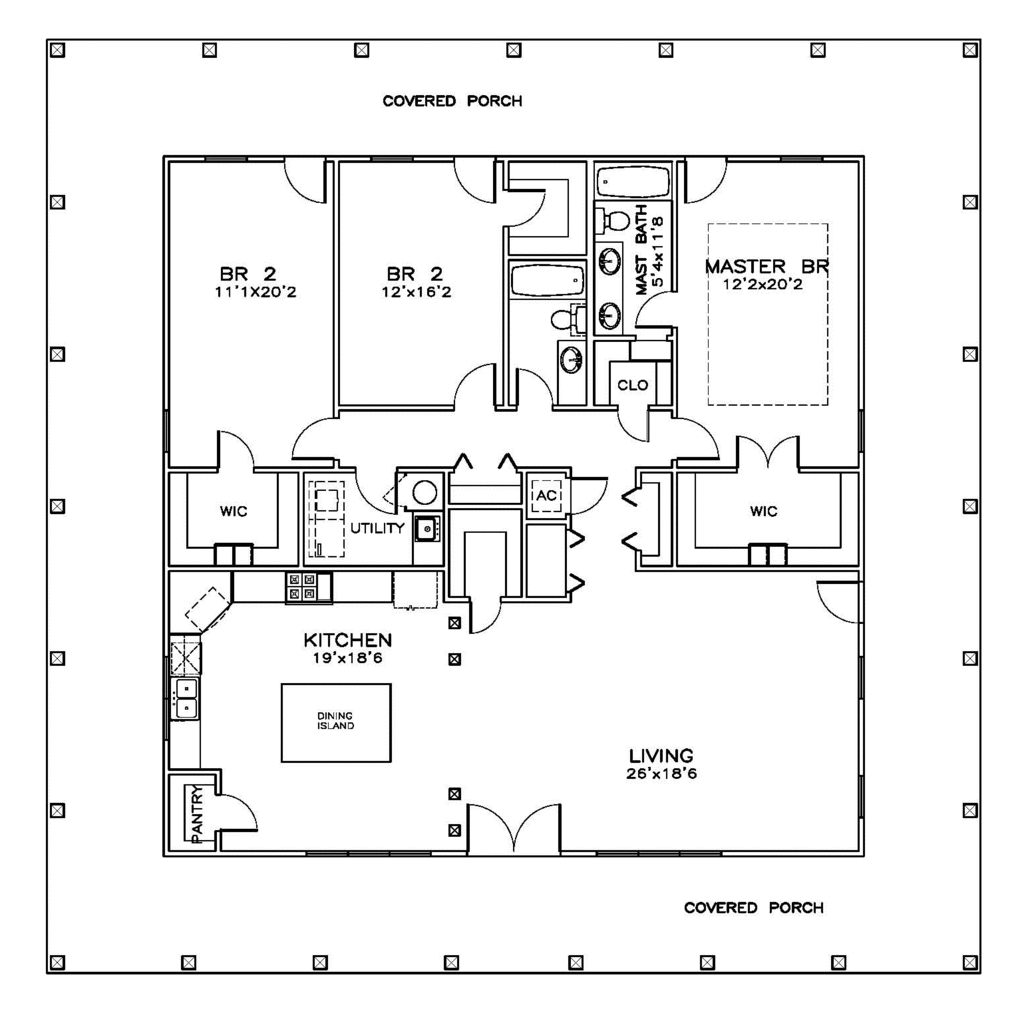door: (462, 798, 563, 858), (284, 415, 342, 466), (280, 153, 331, 206), (731, 432, 800, 471), (352, 465, 400, 520), (670, 414, 726, 461), (450, 151, 499, 204), (814, 576, 864, 626), (678, 155, 729, 204), (212, 425, 259, 474), (500, 186, 548, 230), (216, 789, 258, 839), (635, 286, 681, 331), (564, 469, 609, 512), (511, 368, 554, 411), (456, 363, 495, 410), (463, 596, 499, 638), (616, 404, 652, 442)
large_sink: (549, 303, 586, 338)
small_sink: (594, 239, 624, 333), (557, 341, 587, 410), (588, 197, 634, 238)
tub: (586, 160, 675, 201), (511, 261, 586, 304)
twin_sink: (171, 673, 200, 725)
